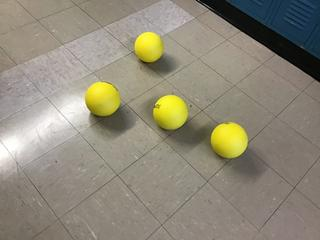power_cell: (83, 80, 124, 121), (210, 120, 250, 160), (152, 93, 188, 133), (133, 30, 166, 66)
